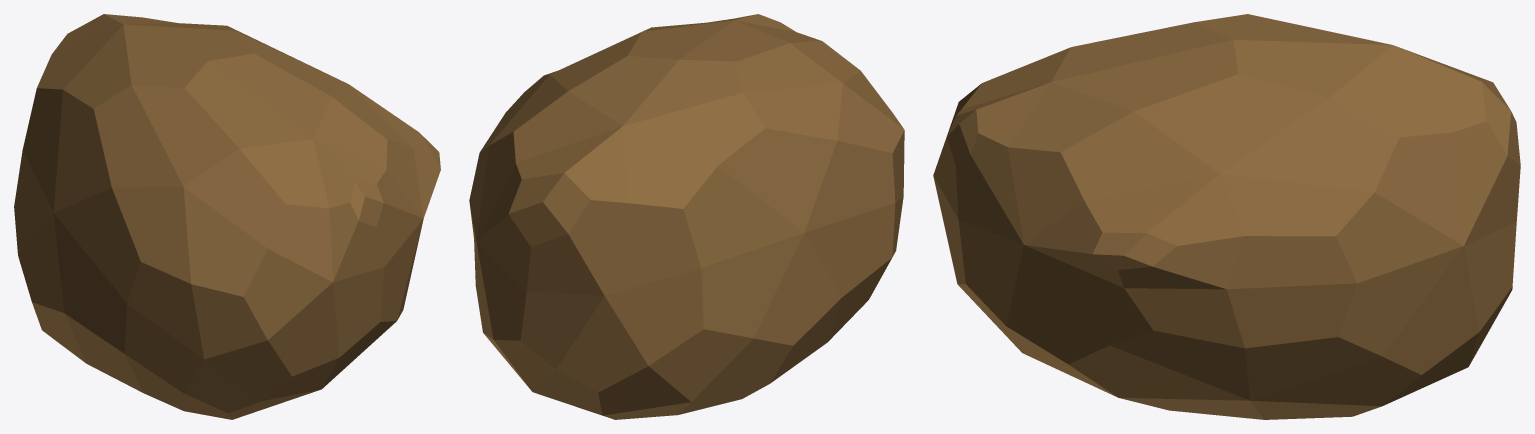
Rendered from rock.glb.
The picture shows the model from 3 angles, left to right: view 1: azimuth 30°, elevation 25°; view 2: azimuth 150°, elevation 25°; view 3: azimuth 270°, elevation 25°; orthographic projection. The views are drawn at different scales.
Parts seen in each view (by area): view 1: rock; view 2: rock; view 3: rock.
Part boxes in pixels (x1,y1,x2,y2): rock: (14,14,440,419); rock: (469,14,904,419); rock: (933,14,1520,419).
Bounding box in the file's own units: 0.5976 × 0.5118 × 0.7892.
